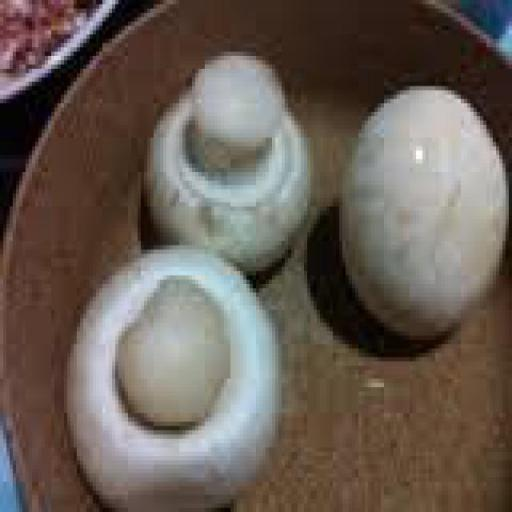mushroom: (70, 246, 282, 506), (350, 84, 512, 338), (151, 54, 319, 274)
